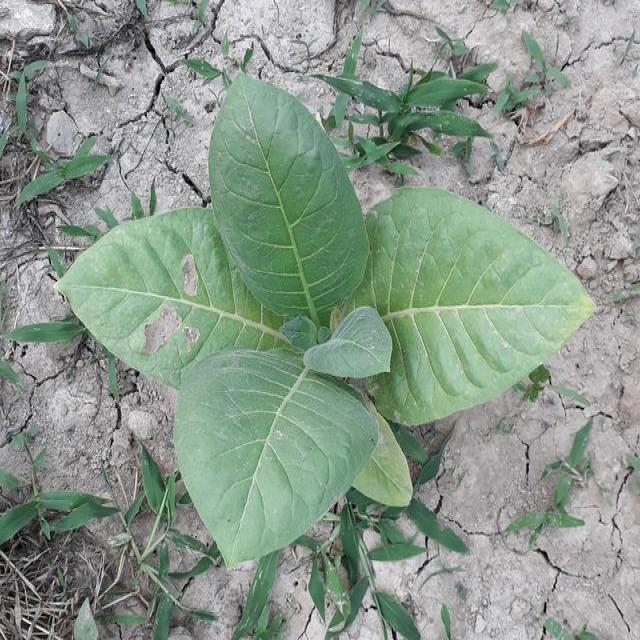crop: (61, 77, 594, 568)
